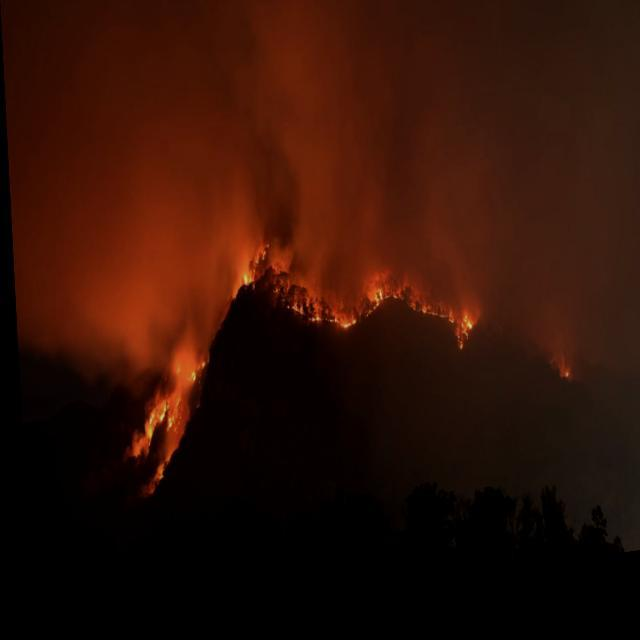Fire: (122, 394, 182, 496), (232, 246, 268, 298), (404, 308, 451, 344), (357, 291, 396, 325), (449, 320, 468, 364), (286, 310, 318, 334), (326, 322, 352, 342), (184, 362, 202, 390), (560, 384, 565, 396)
